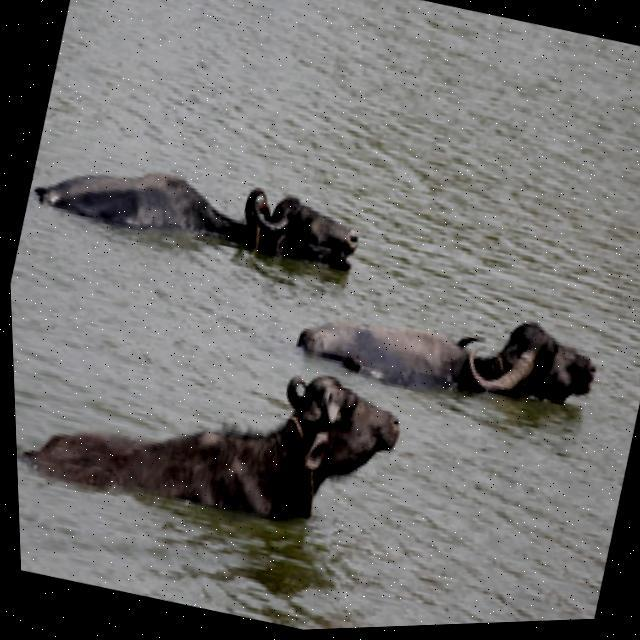Buffalo: (12, 301, 421, 560)
